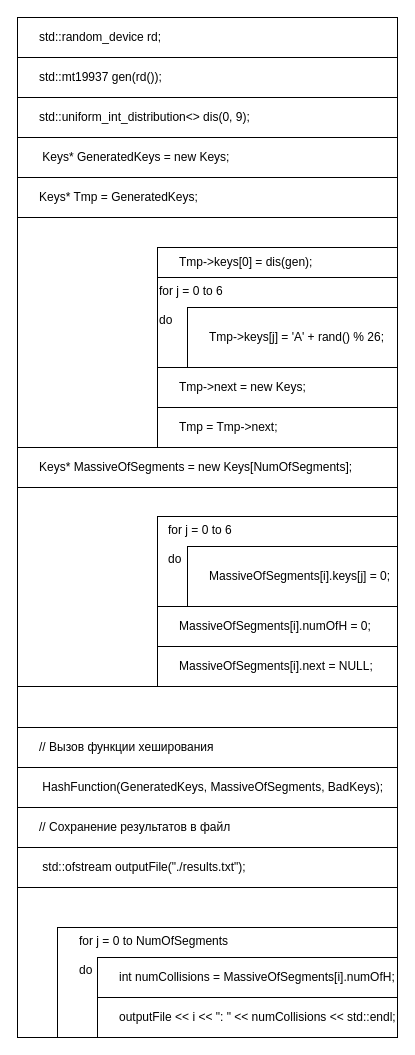
This 415x1055 diagram has some shape labels left out. The shapes that lost their labels are listed below. From the top down, each one's box as (x1, y1, x2, y2) in pixels, then its label:
(16, 216, 398, 448): for i = 0 to NumOfKeys do
(16, 486, 398, 688): for i = 0 to NumOfSegments do
(16, 686, 398, 728): Keys* BadKeys = NULL;
(16, 886, 398, 1038): if outputFile.is_open() then
